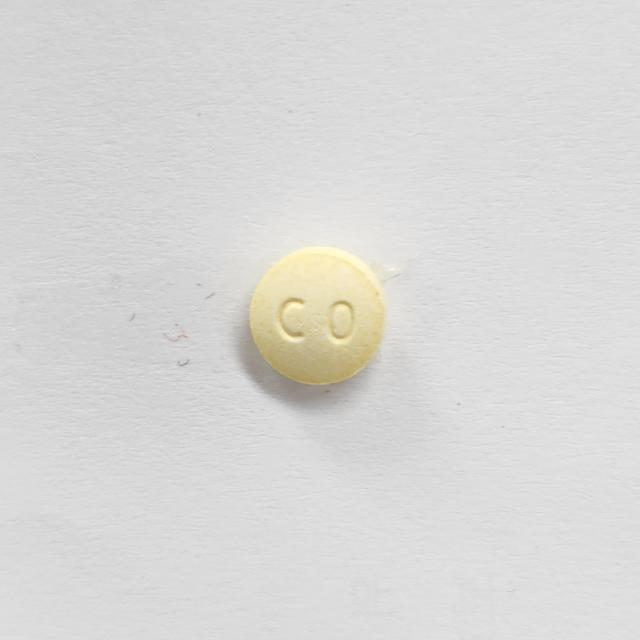pill: (239, 240, 391, 394)
